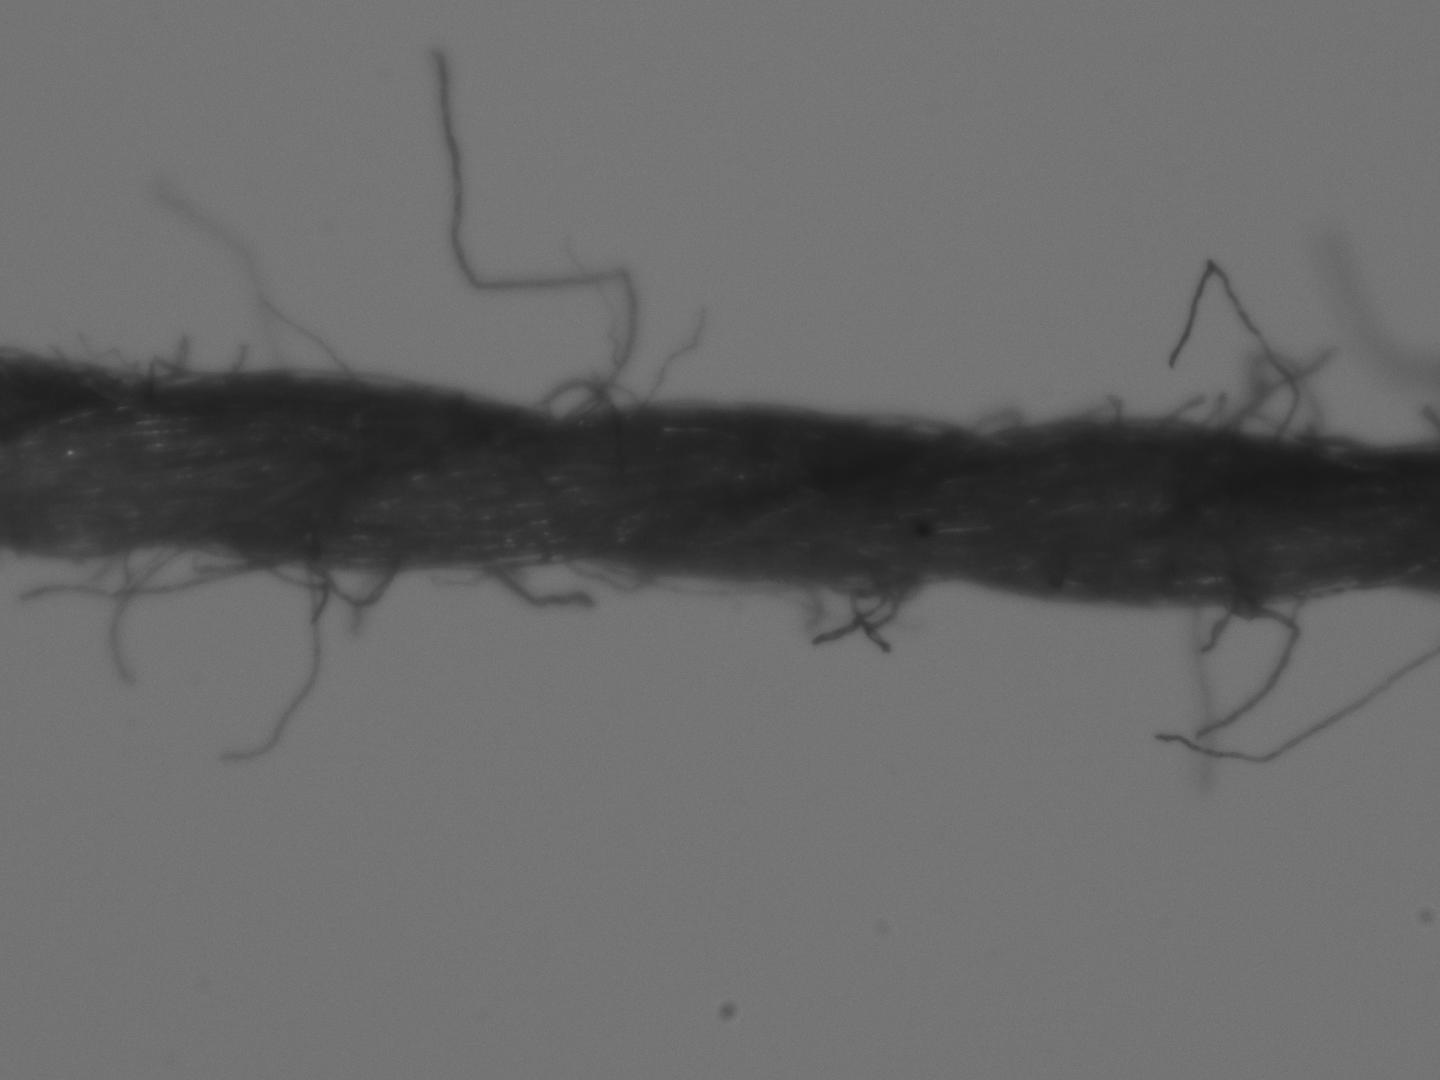loop_fiber: (1200, 352, 1335, 449), (232, 551, 405, 613), (751, 583, 940, 628), (508, 373, 652, 428)
protruding_fiber: (429, 44, 647, 422), (150, 177, 367, 390), (1141, 636, 1439, 765), (1159, 256, 1302, 440), (210, 558, 323, 766), (1181, 604, 1304, 743), (22, 558, 281, 606), (643, 299, 714, 414), (472, 560, 602, 613), (1186, 601, 1218, 785), (104, 545, 142, 698)
